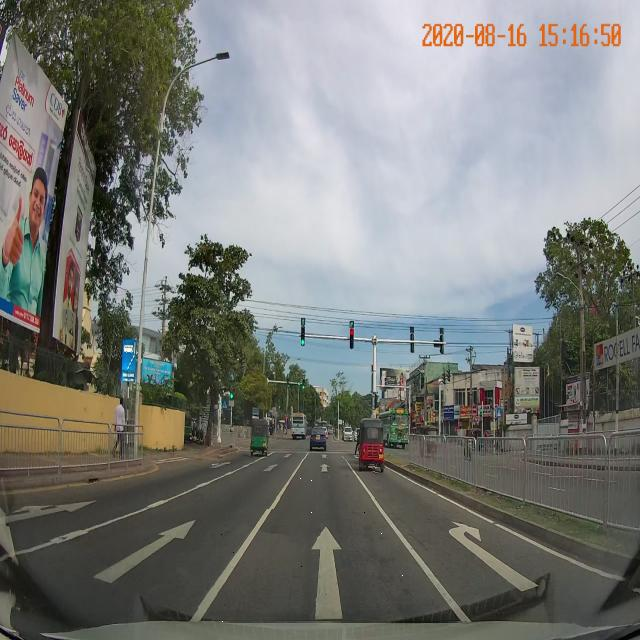diamond: (198, 509, 467, 622), (276, 459, 375, 498)
